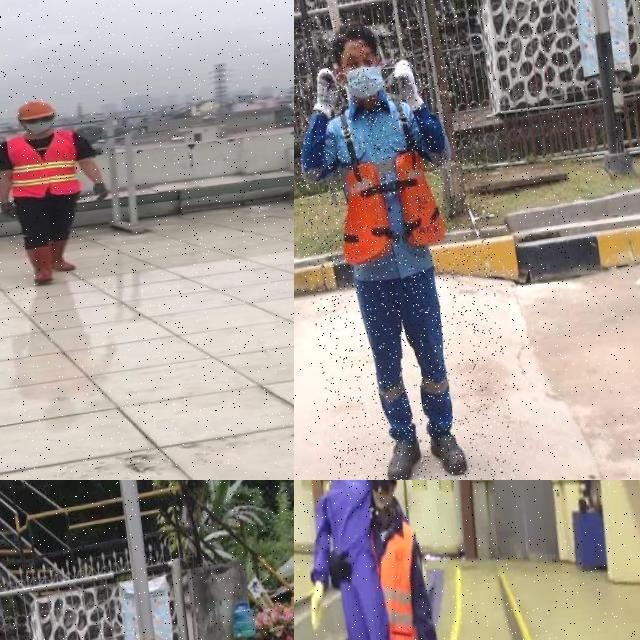boots: (422, 408, 472, 479), (379, 420, 426, 480), (17, 240, 63, 286), (46, 234, 80, 274)
helmet: (12, 96, 58, 122)
vest: (327, 102, 447, 276), (372, 512, 434, 640), (4, 128, 82, 200)
